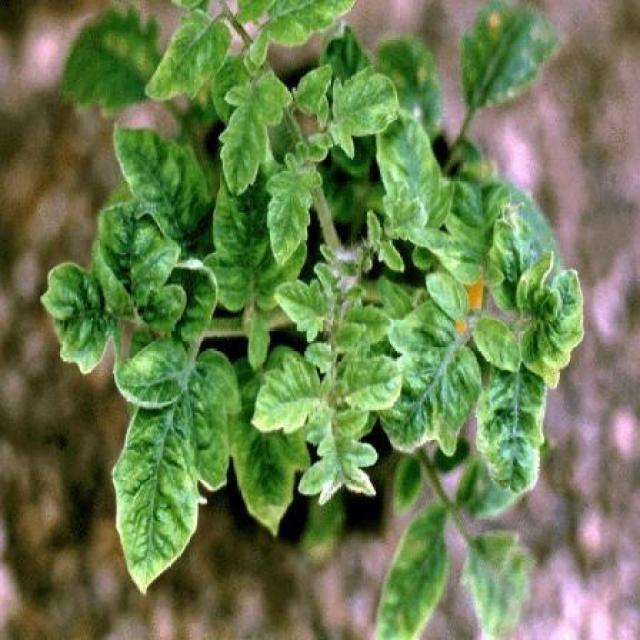Yellow Leaf Curl Virus: (110, 338, 240, 609), (385, 304, 482, 462), (109, 124, 214, 264), (373, 498, 452, 640), (216, 62, 294, 205), (474, 368, 550, 508), (376, 106, 449, 226), (253, 348, 334, 453), (322, 66, 399, 160), (265, 150, 322, 266), (338, 351, 406, 418), (467, 315, 526, 376), (272, 278, 324, 341), (422, 268, 469, 321)
